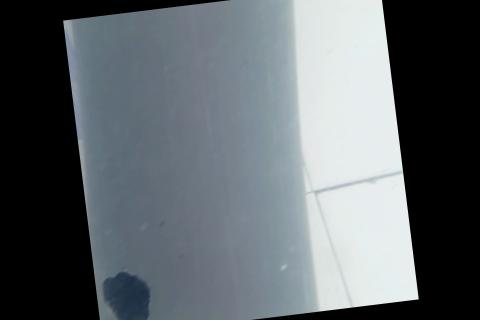kebocoran: (98, 267, 155, 320)
